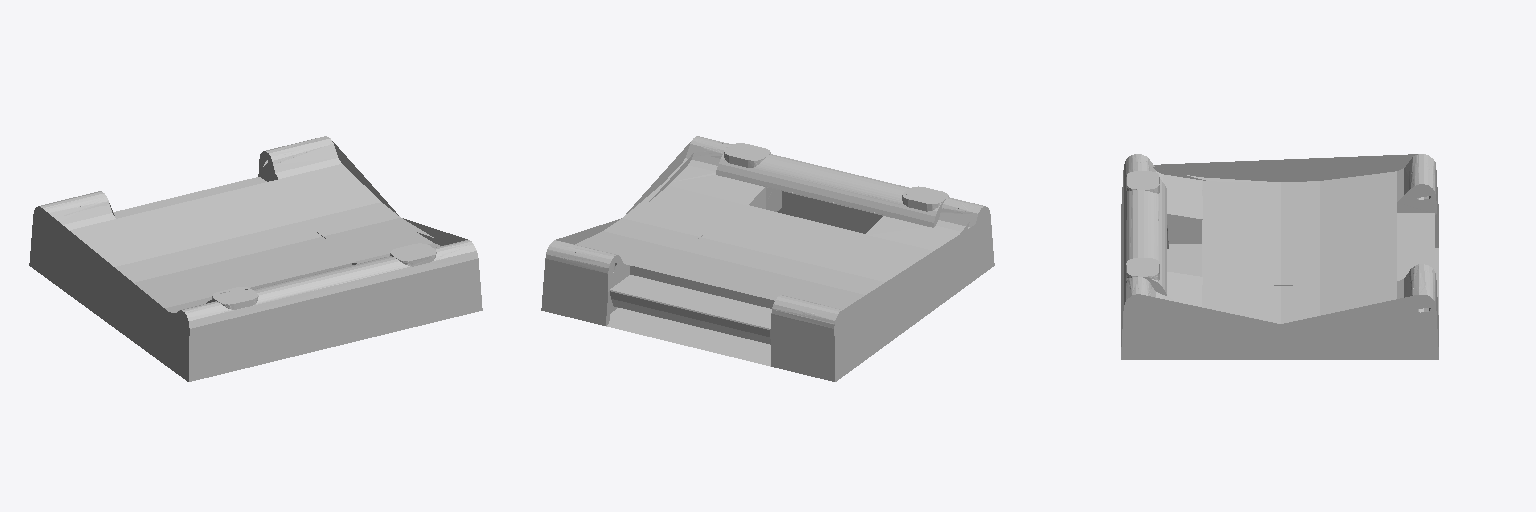
3 renders of one model, left to right at view 1: azimuth 30°, elevation 25°; view 2: azimuth 150°, elevation 25°; view 3: azimuth 270°, elevation 25°, orthographic.
Visible parts, largest first — view 1: 5418-Sr; view 2: 5418-Sr; view 3: 5418-Sr.
Part boxes in pixels (x1,y1,x2,y2): 5418-Sr: (29, 136, 482, 381); 5418-Sr: (541, 136, 994, 381); 5418-Sr: (1121, 154, 1438, 359).
Size of the model in its own units: 153 by 31.9 by 143.